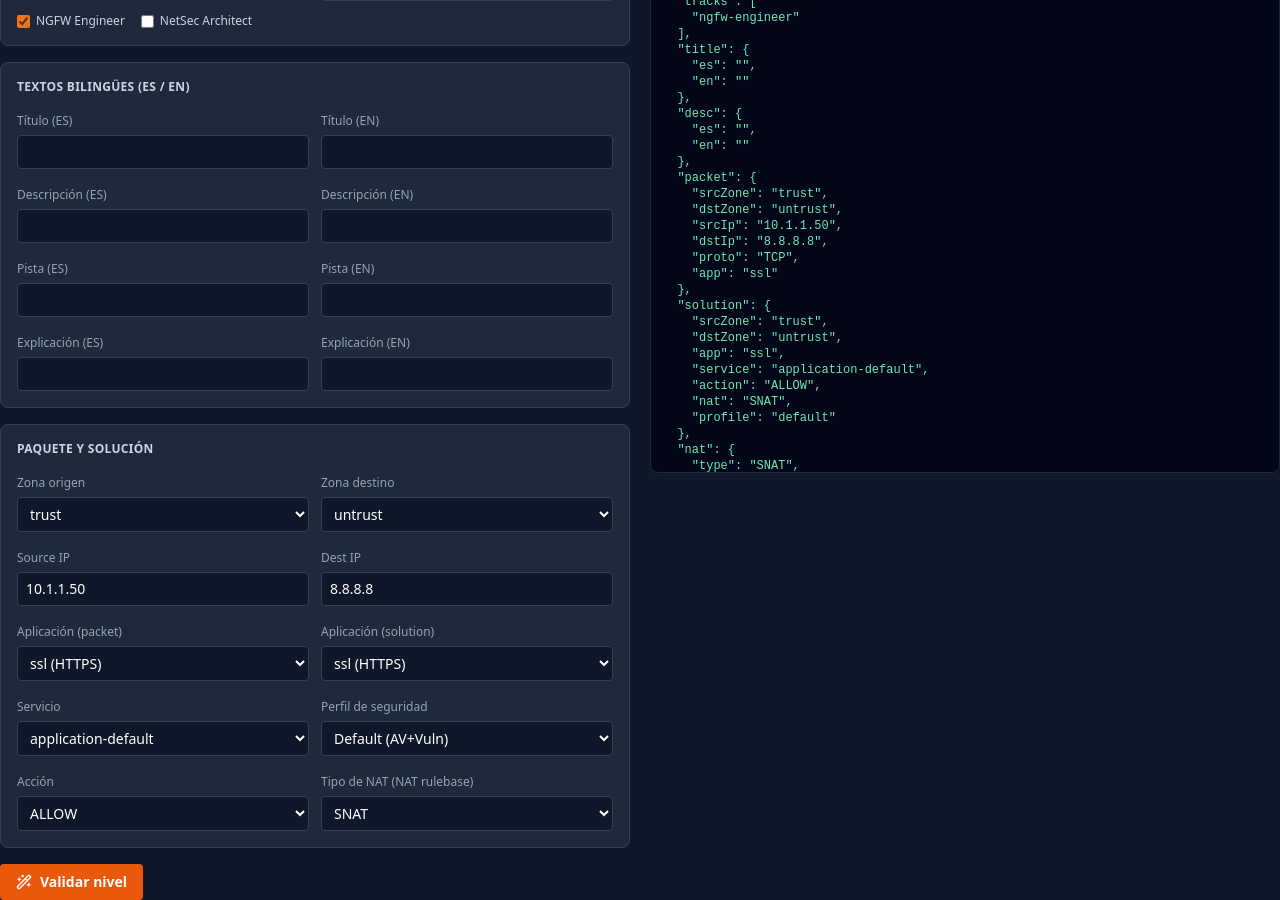
Test case: LevelBuilder — validación › marca inválido si faltan textos requeridos
(page scrolled)
Click the button "Validar nivel": x=72, y=882 [0,864,143,899]
(page scrolled)
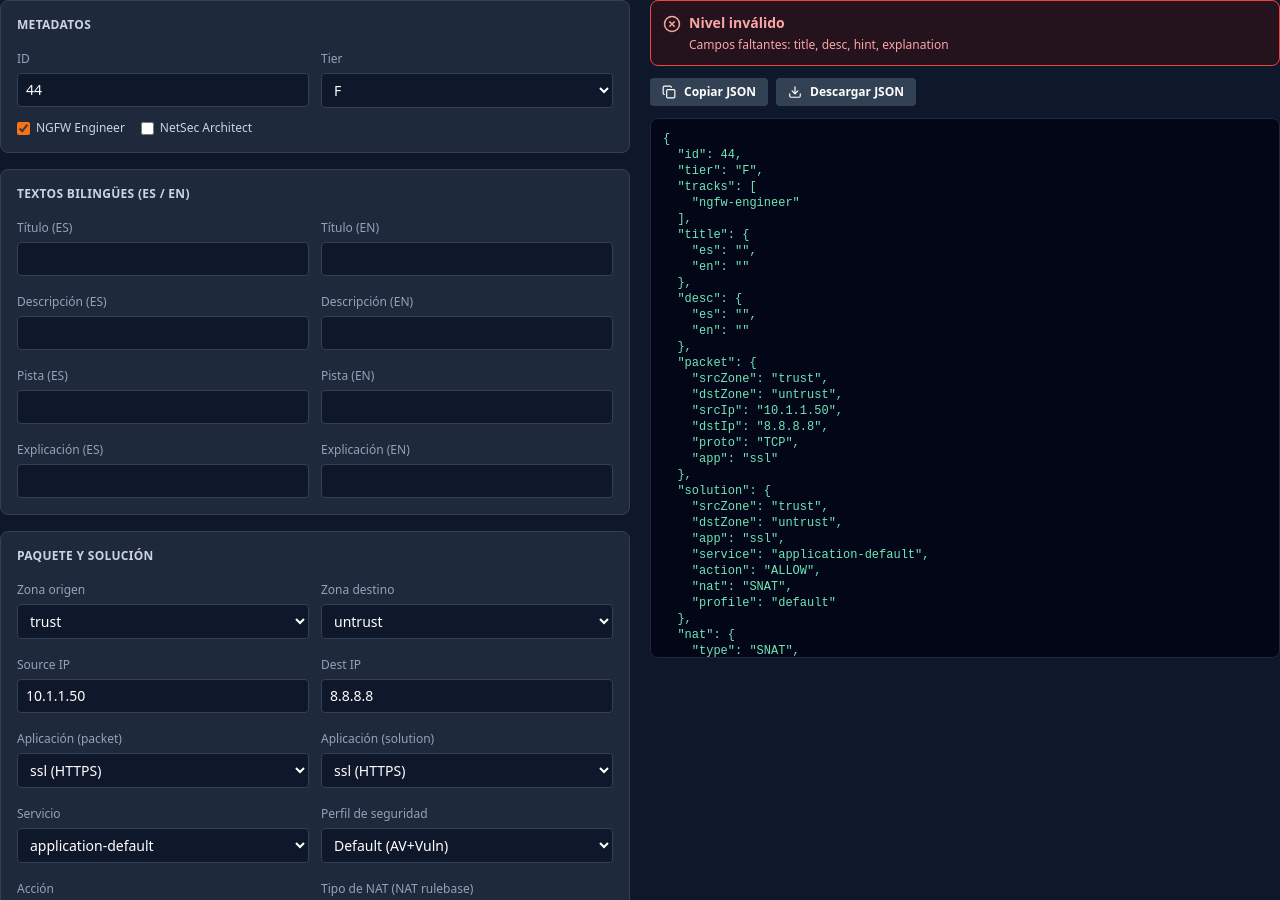
Check: the message "Nivel inválido Campos faltantes: title, desc, hint, explanation" is shown, box [650,0,1279,66]
Check: the text "Nivel inválido" is shown, box [689,13,785,32]
